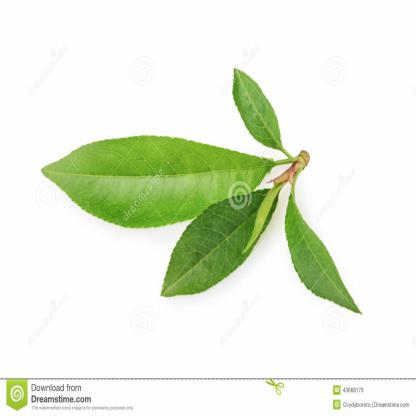peach leaf: (28, 136, 273, 231), (155, 187, 279, 301), (284, 186, 364, 321), (230, 61, 289, 155)
